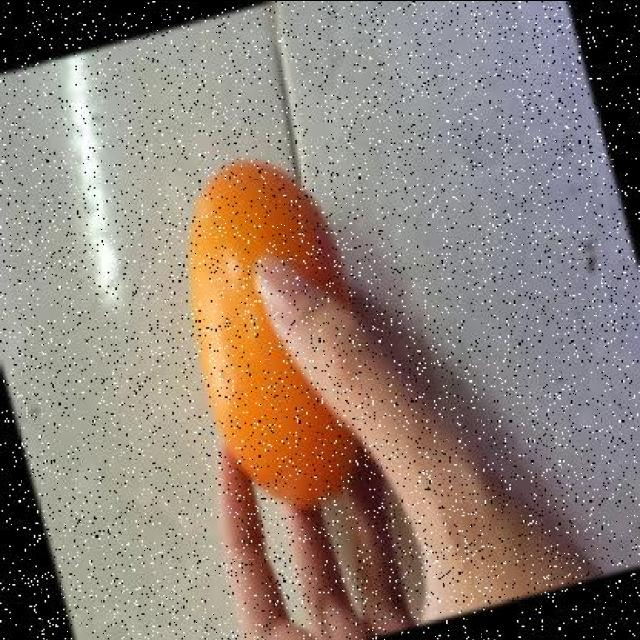Orange: (184, 158, 362, 508)
